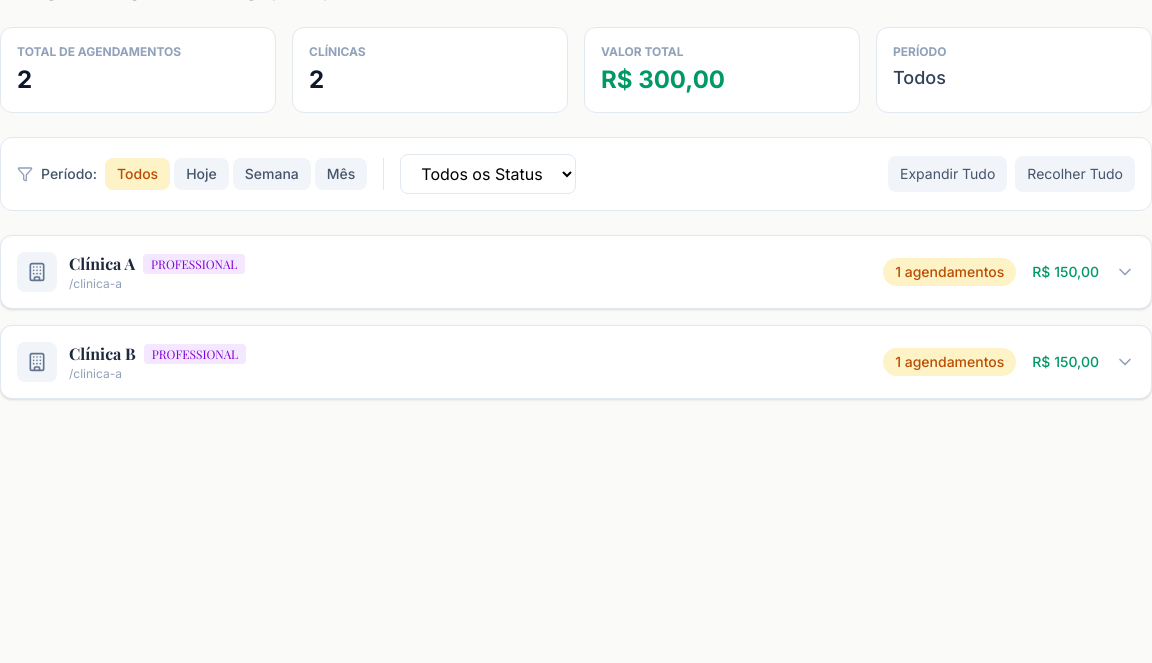
Test: pages/king/KingAppointments › expande uma clínica e mostra o agendamento (sem misturar com outra clínica)
This screenshot has width=1152, height=663.
Step 1. Click the heading "Clínica A PROFESSIONAL" → (157, 264), box top-left (69, 252), bottom-right (245, 276)
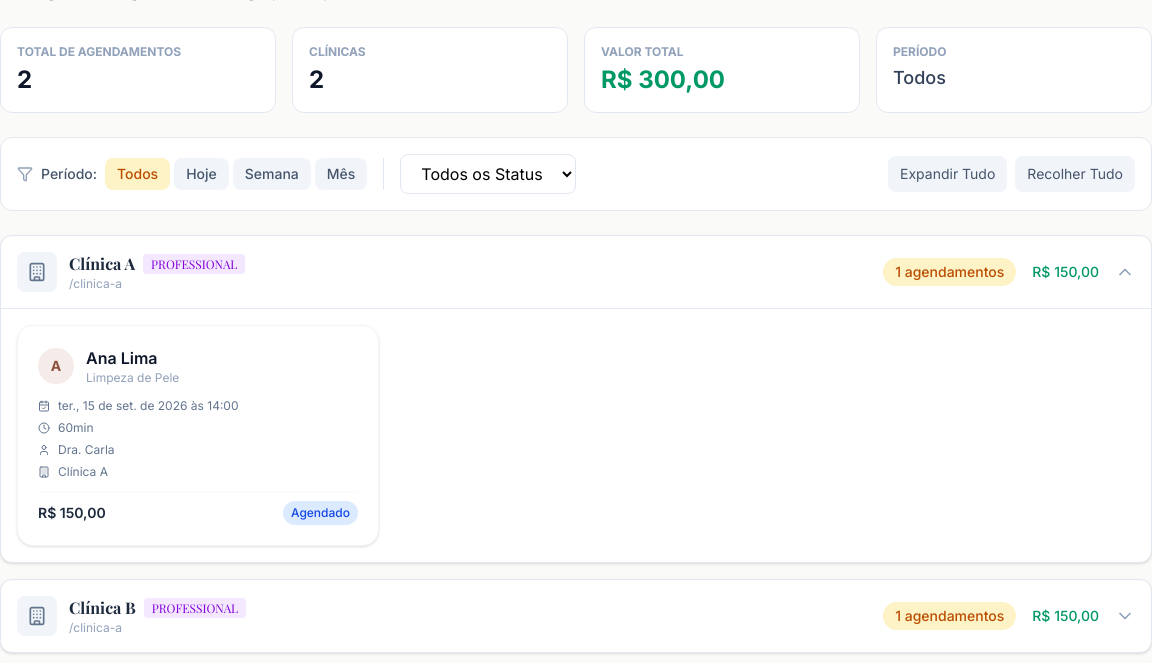
Expected: the text "Beto Souza" is not shown
Expected: the text "Ana Lima" is shown, top-left (86, 348), bottom-right (158, 368)
Step 2. Click the heading "Clínica B PROFESSIONAL" → (158, 608), box top-left (69, 596), bottom-right (246, 620)
(page scrolled)
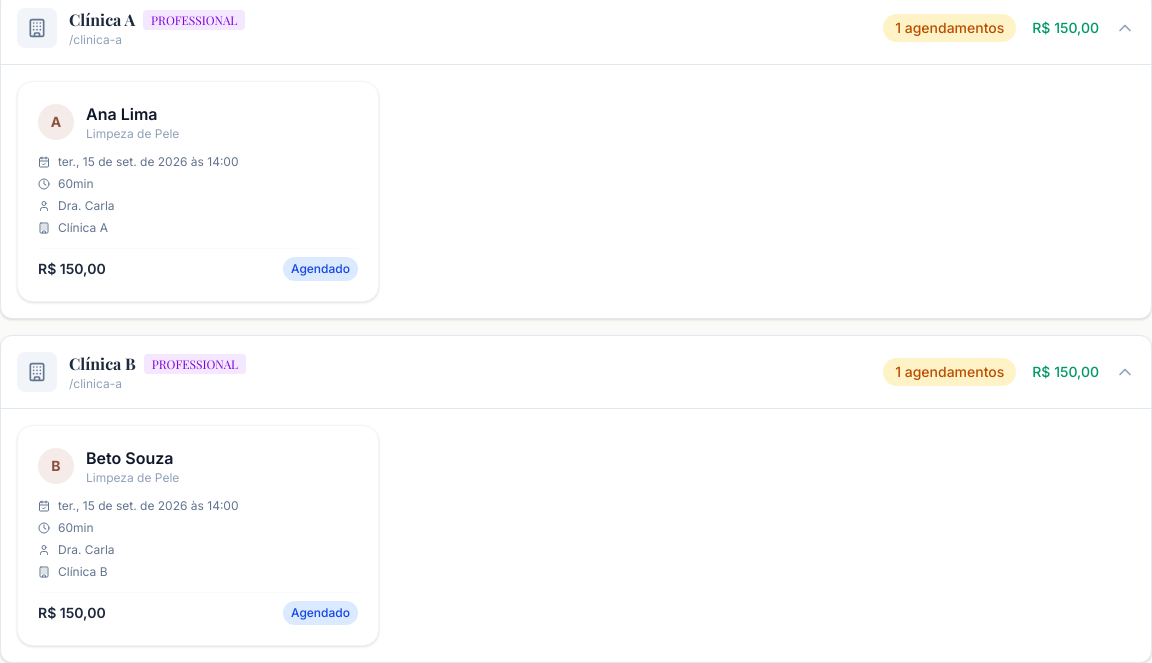
Expected: the text "Beto Souza" is shown, top-left (86, 448), bottom-right (174, 468)
